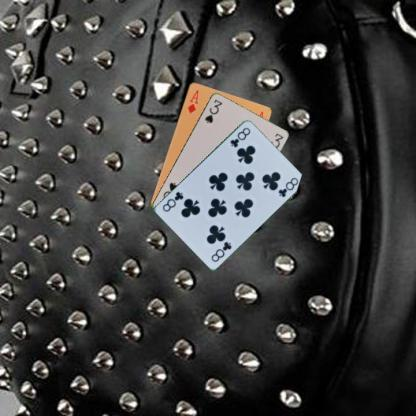3s: (202, 97, 223, 124)
8c: (208, 239, 233, 263), (228, 125, 251, 148)
Ad: (185, 88, 199, 115)
